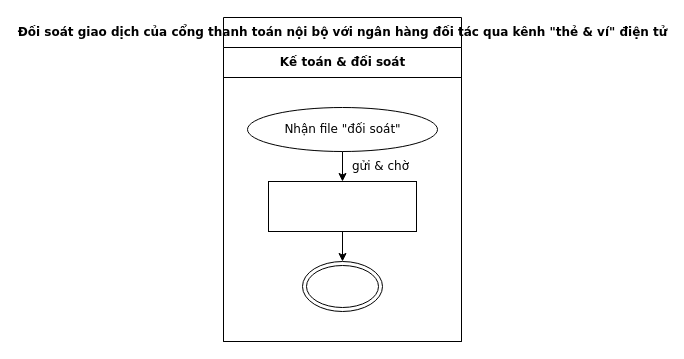
The diagram is 684 pixels wide and 359 high, and some of its shapes have lost their labels. Here are the shapes that lost their labels. From the top down, the centre of each, then its label:
At [342,206]: "Cột tách bằng tab".
At [342,286]: "Xong".
